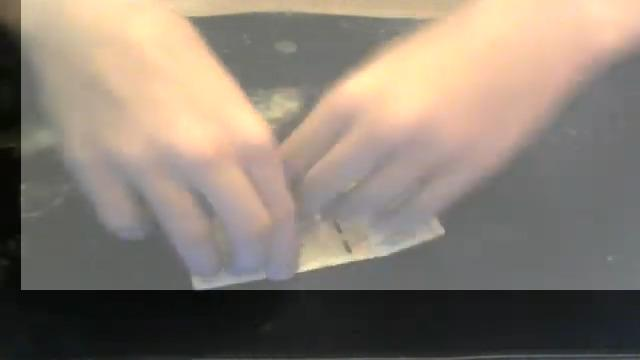10leva: (21, 0, 640, 290)
